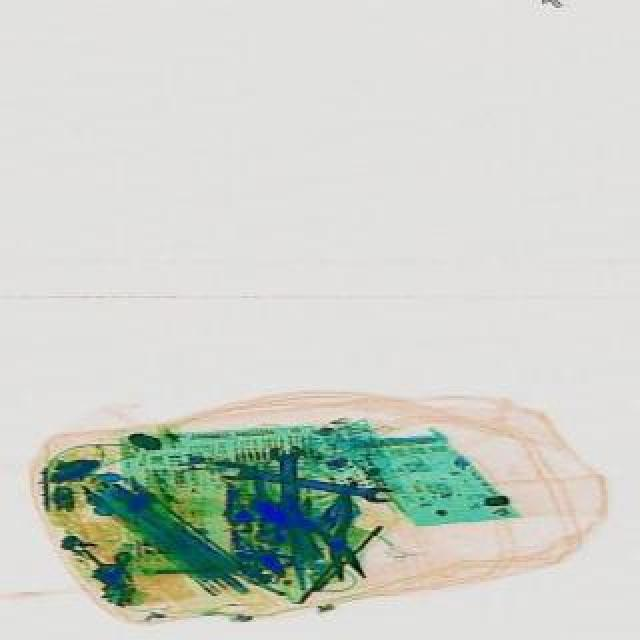scissors: (216, 458, 392, 506), (266, 444, 304, 526)
wrench: (284, 480, 378, 592)
